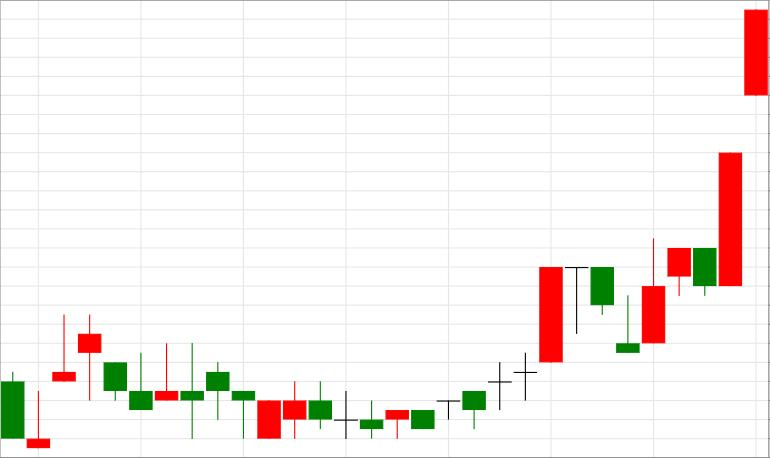evening_star_fall: (463, 266, 614, 431)
